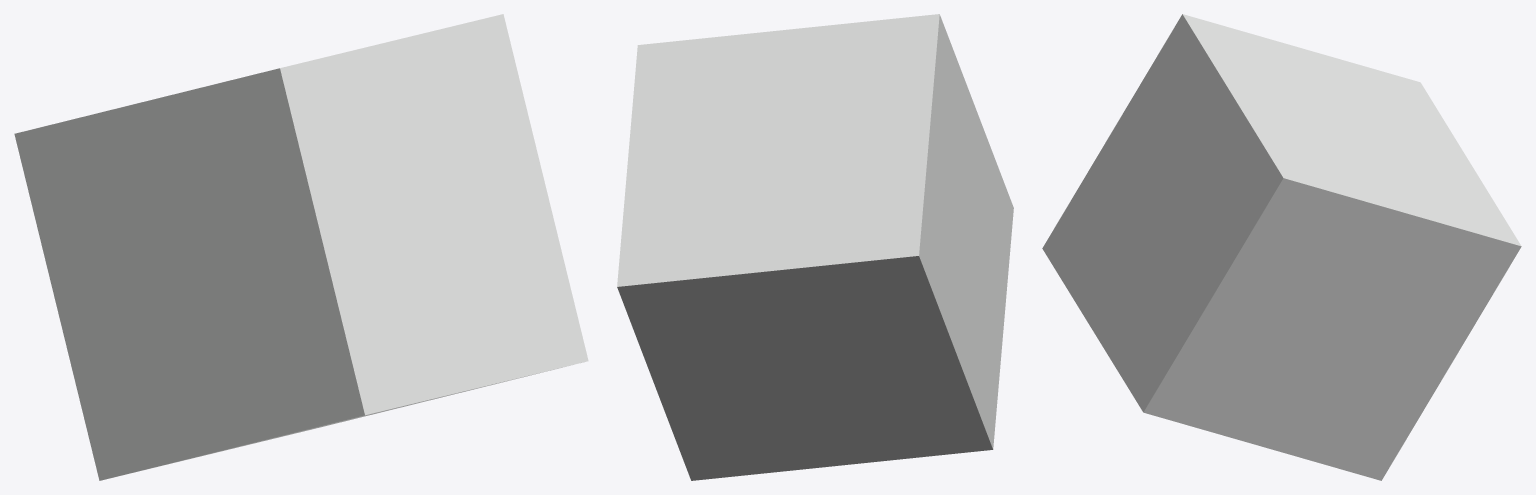
The picture shows the model from 3 angles, left to right: view 1: azimuth 30°, elevation 25°; view 2: azimuth 150°, elevation 25°; view 3: azimuth 270°, elevation 25°; orthographic projection. The views are drawn at different scales.
Parts seen in each view (by area): view 1: node_id4; view 2: node_id4; view 3: node_id4.
Boxes of the visible parts, left/top/right/bottom form: node_id4: left=14, top=14, right=588, bottom=480; node_id4: left=617, top=14, right=1013, bottom=480; node_id4: left=1042, top=14, right=1521, bottom=480.
Bounding box in the file's own units: 0.6713 × 0.77 × 0.8342.
Materials: 1 (1 with a texture image).
